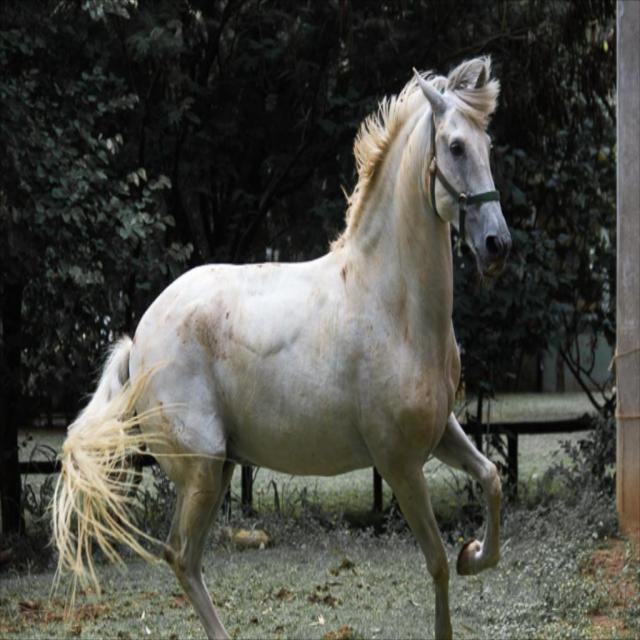Horse: (42, 52, 514, 638)
